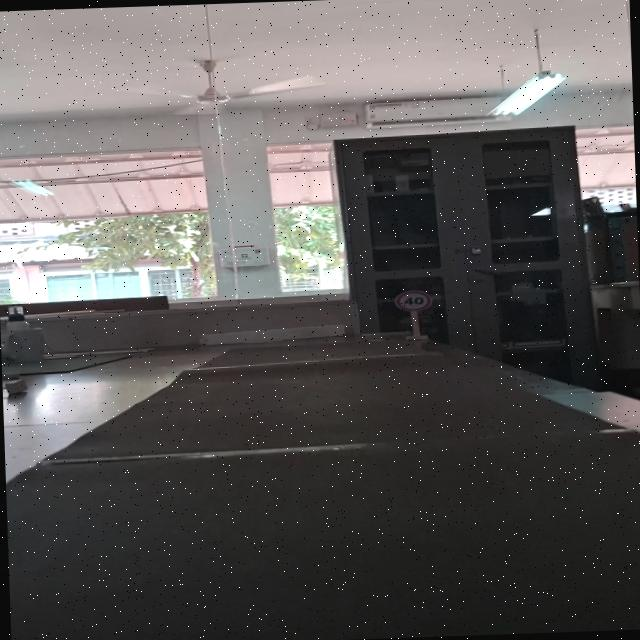Speed40: (392, 288, 434, 312)
